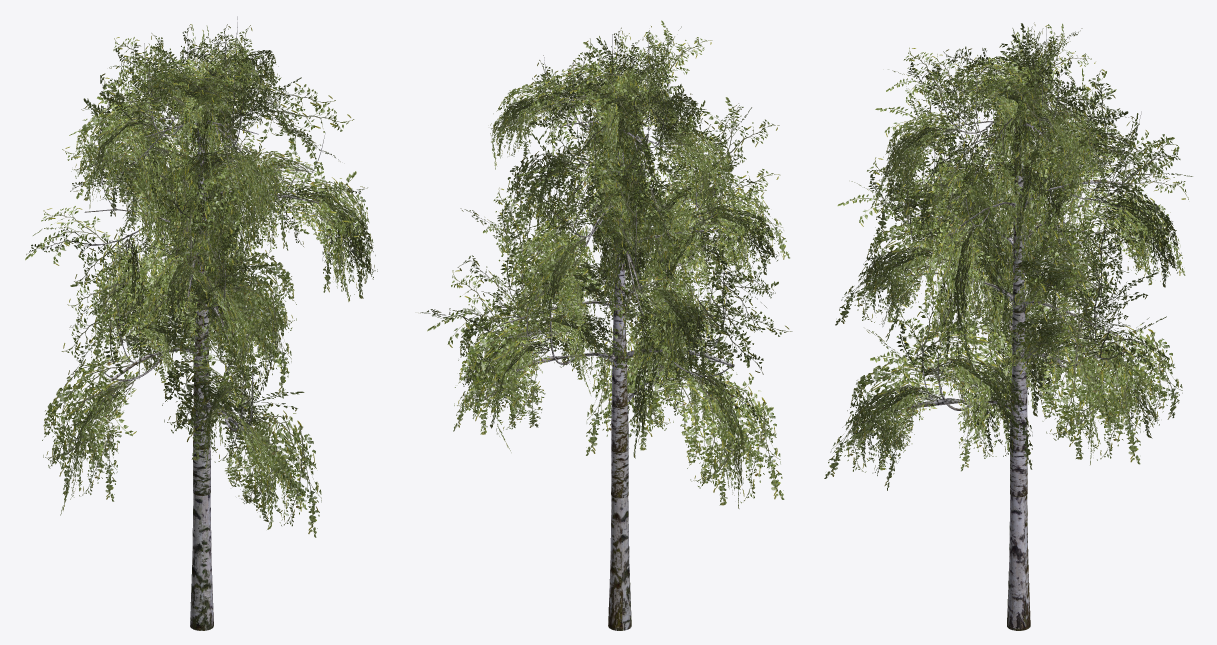
Rendered from Paper_Birch_Model_0.obj.
3 views of the same model, side by side, from view 1: azimuth 30°, elevation 25°; view 2: azimuth 150°, elevation 25°; view 3: azimuth 270°, elevation 25° (orthographic).
Parts seen in each view (by area): view 1: Foliage, Bark; view 2: Foliage, Bark; view 3: Foliage, Bark.
Part boxes in pixels (<box>): Foliage: <box>25,24,377,537</box>; Bark: <box>84,16,325,630</box>; Foliage: <box>420,20,792,508</box>; Bark: <box>502,31,734,630</box>; Foliage: <box>824,22,1192,490</box>; Bark: <box>904,27,1141,630</box>.
Bounding box in the file's own units: 8.09 × 15 × 8.7.
2 materials, 2 textured.
